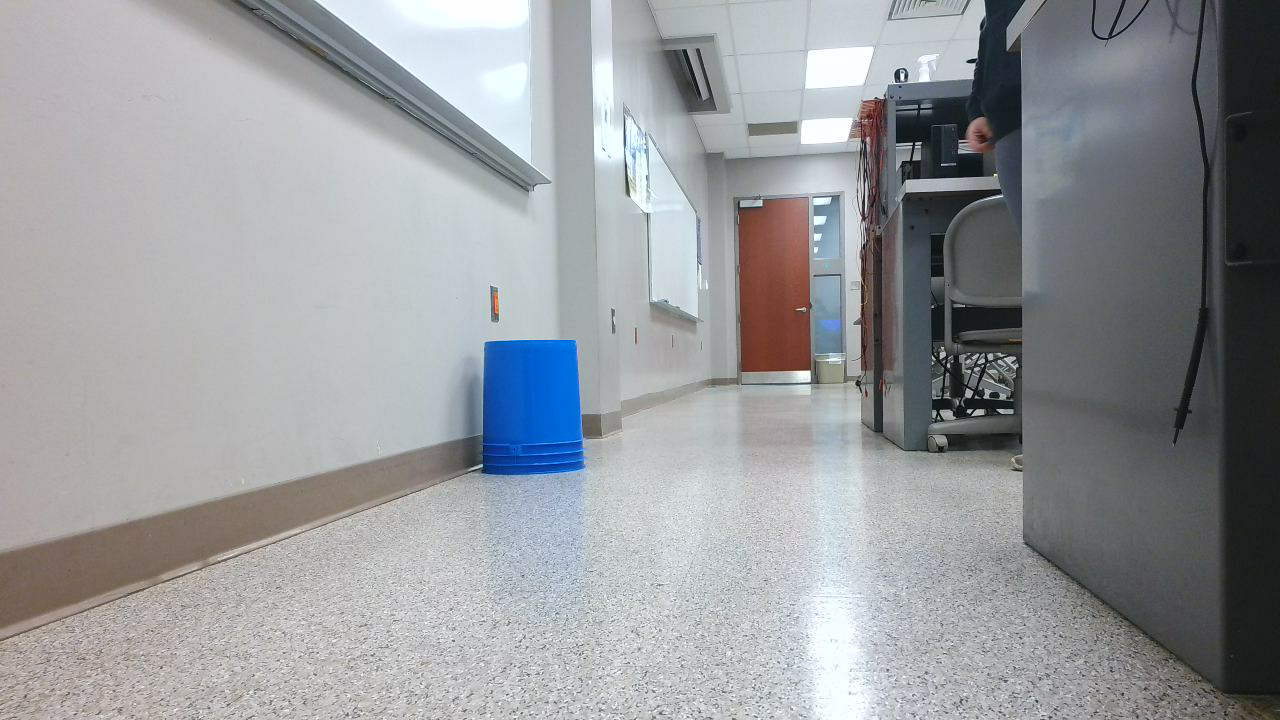blue_bucket: (480, 341, 596, 486)
